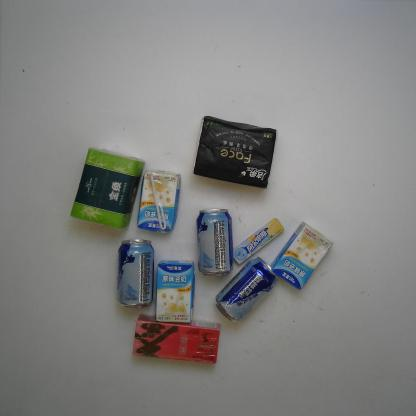Alcohol: (213, 254, 281, 326), (194, 205, 236, 277), (115, 238, 156, 310)
Candy: (233, 216, 285, 266)
Instant Drink: (130, 313, 222, 366)
Milk: (269, 220, 335, 292), (136, 166, 182, 236), (155, 257, 196, 325)
Tissue: (190, 113, 280, 190), (69, 146, 146, 232)
